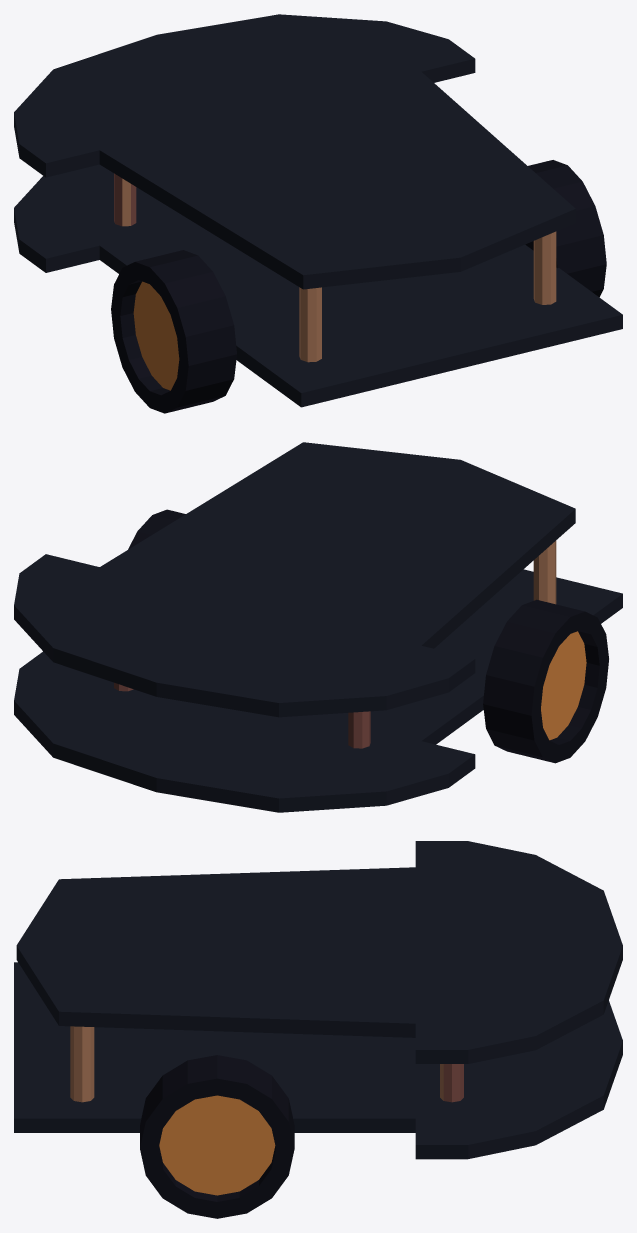
The model's file is picar.dae.
3 views of the same model, one above another, from view 1: azimuth 30°, elevation 25°; view 2: azimuth 150°, elevation 25°; view 3: azimuth 270°, elevation 25° (orthographic).
Parts seen in each view (by area): view 1: Top, Wheel_Left.001, Wheel_Left; view 2: Top, Wheel_Left.001, Wheel_Left; view 3: Top, Wheel_Left.
Boxes of the visible parts, box(x1,y1,x2,y2) form: Top: box(14, 14, 622, 407); Wheel_Left.001: box(111, 250, 236, 413); Wheel_Left: box(525, 160, 606, 297); Top: box(14, 442, 622, 812); Wheel_Left.001: box(483, 599, 608, 763); Wheel_Left: box(128, 509, 185, 549); Top: box(14, 841, 622, 1159); Wheel_Left: box(140, 1055, 294, 1218).
Size of the model in its own units: 1.81 by 2.23 by 0.6972.
3 materials, 3 textured.
